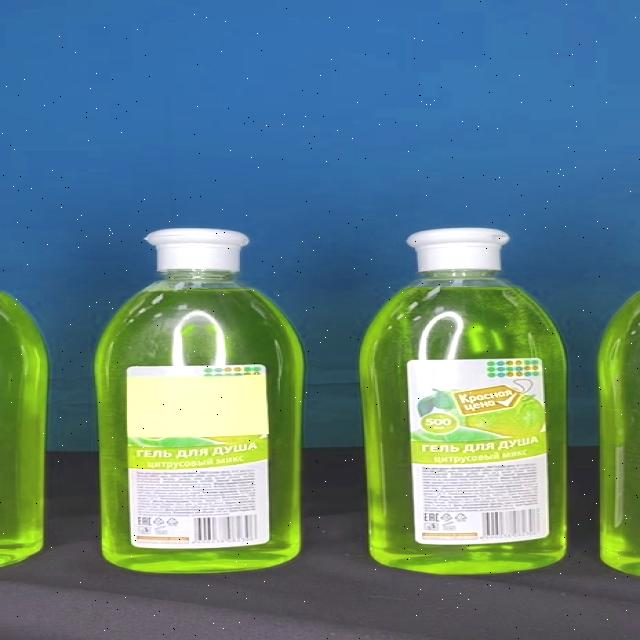Bottle: (358, 228, 568, 574), (95, 227, 302, 574)
Cap: (144, 228, 249, 272), (407, 228, 510, 270)
